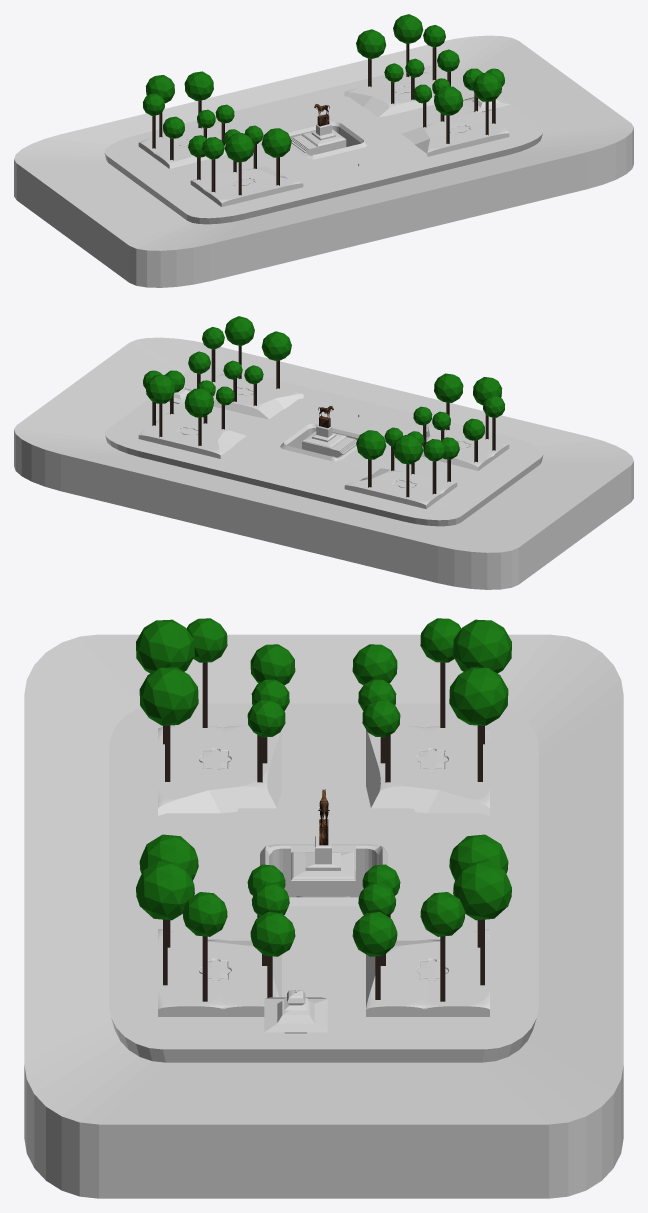
File: Plaza independencia2.glb
3 renders of one model, top to bottom at view 1: azimuth 30°, elevation 25°; view 2: azimuth 150°, elevation 25°; view 3: azimuth 270°, elevation 25°, orthographic. The views are drawn at different scales.
Visible parts, largest first — view 1: Plaza, Cube.002, Icosphere.005, Icosphere.004, Icosphere.002, Icosphere.003, Icosphere, Icosphere.001, Cube.006, Cube.009, Cube.007, Cube.008; view 2: Plaza, Cube.002, Icosphere.005, Icosphere.004, Icosphere.002, Icosphere.003, Icosphere, Icosphere.001, Cube.006, Cube.009, Cube.007, Cube.008; view 3: Plaza, Cube.002, Icosphere.004, Icosphere.005, Icosphere.002, Icosphere.003, Icosphere, Icosphere.001, Kiosko, Cube.009, Cube.006, Cube.008.
Boxes of the visible parts, left/top/right/bottom form: Plaza: left=14, top=35, right=633, bottom=287; Cube.002: left=138, top=72, right=509, bottom=206; Icosphere.005: left=184, top=29, right=463, bottom=157; Icosphere.004: left=145, top=14, right=501, bottom=162; Icosphere.002: left=163, top=49, right=482, bottom=157; Icosphere.003: left=143, top=25, right=504, bottom=159; Icosphere: left=215, top=63, right=431, bottom=144; Icosphere.001: left=197, top=58, right=450, bottom=144; Cube.006: left=152, top=47, right=495, bottom=192; Cube.009: left=176, top=85, right=471, bottom=186; Cube.007: left=159, top=44, right=488, bottom=195; Cube.008: left=198, top=58, right=449, bottom=185; Plaza: left=14, top=337, right=633, bottom=589; Cube.002: left=138, top=374, right=509, bottom=508; Icosphere.005: left=184, top=331, right=463, bottom=459; Icosphere.004: left=146, top=316, right=502, bottom=464; Icosphere.002: left=165, top=351, right=484, bottom=459; Icosphere.003: left=143, top=327, right=504, bottom=461; Icosphere: left=216, top=365, right=432, bottom=446; Icosphere.001: left=197, top=360, right=450, bottom=446; Cube.006: left=152, top=349, right=495, bottom=494; Cube.009: left=176, top=387, right=471, bottom=488; Cube.007: left=159, top=346, right=488, bottom=497; Cube.008: left=198, top=360, right=449, bottom=487; Plaza: left=24, top=634, right=623, bottom=1198; Cube.002: left=158, top=725, right=489, bottom=1016; Icosphere.004: left=136, top=619, right=511, bottom=920; Icosphere.005: left=139, top=667, right=508, bottom=880; Icosphere.002: left=250, top=644, right=397, bottom=956; Icosphere.003: left=182, top=618, right=465, bottom=936; Icosphere: left=247, top=700, right=400, bottom=895; Icosphere.001: left=251, top=679, right=396, bottom=916; Kiosko: left=264, top=990, right=327, bottom=1034; Cube.009: left=199, top=748, right=448, bottom=981; Cube.006: left=202, top=662, right=445, bottom=1001; Cube.008: left=165, top=725, right=482, bottom=947.
Size of the model in its own units: 40.38 by 8.1 by 20.88.
3 materials, 1 textured.
